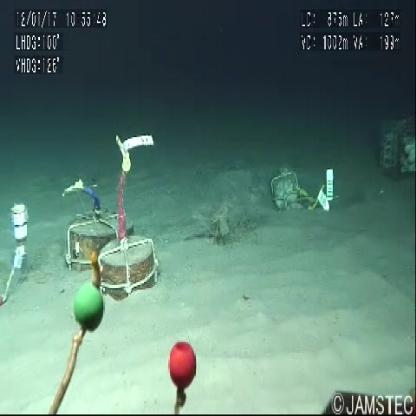Rác: (191, 163, 258, 256)
